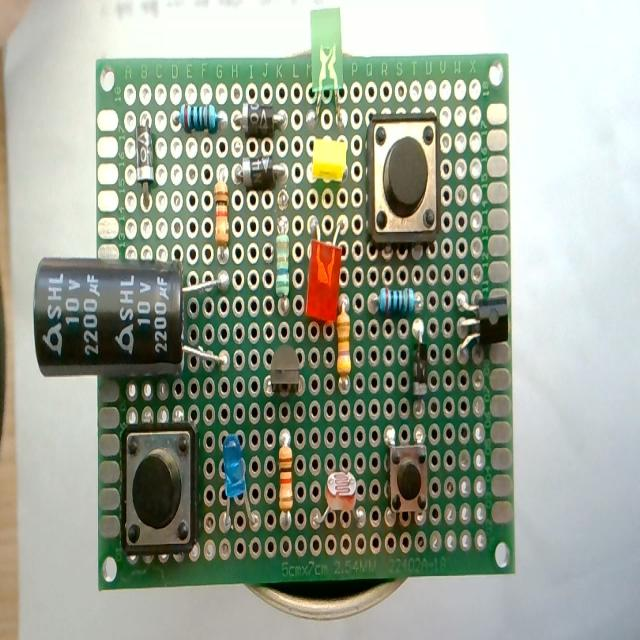Electrolytic capacitor: (37, 257, 236, 375)
cds: (310, 467, 361, 528)
diode: (237, 104, 287, 138), (235, 157, 284, 191), (135, 121, 154, 204), (412, 318, 428, 396)
led: (304, 215, 345, 322), (220, 434, 261, 535), (309, 7, 345, 122), (312, 136, 347, 183)
resistor: (178, 103, 225, 133), (278, 429, 294, 513), (275, 213, 290, 298), (378, 287, 420, 316), (336, 298, 351, 376), (214, 180, 229, 249)
switch: (121, 425, 198, 554), (366, 114, 440, 243), (383, 429, 429, 518)
transistor: (454, 295, 508, 353), (266, 344, 304, 396)
